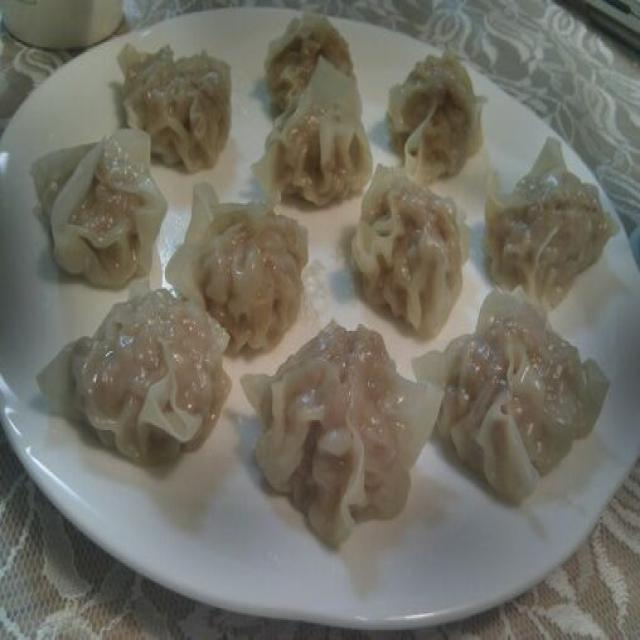带馅早点: (11, 0, 618, 628)
